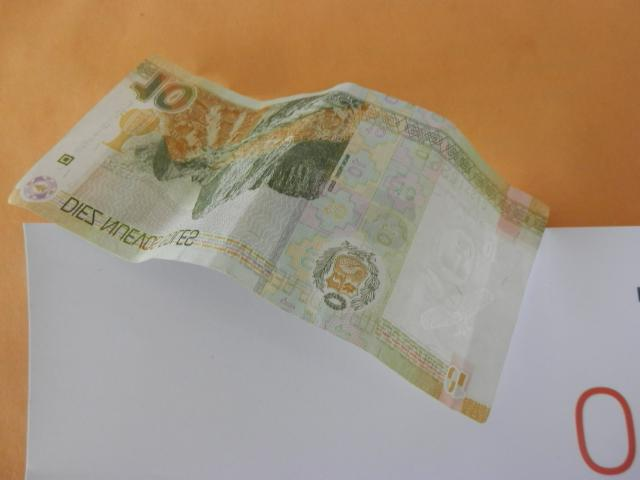B10: (13, 55, 548, 421)
